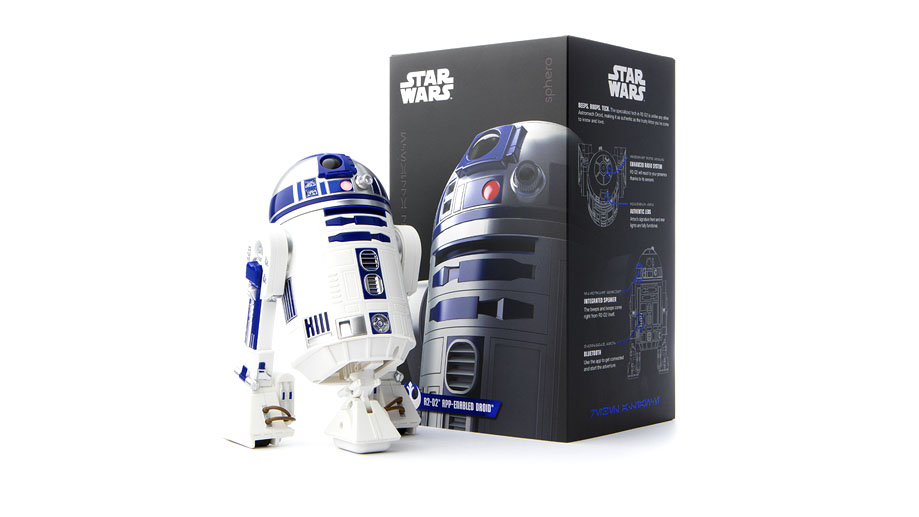r2d2: (227, 153, 417, 454), (430, 122, 565, 389)
